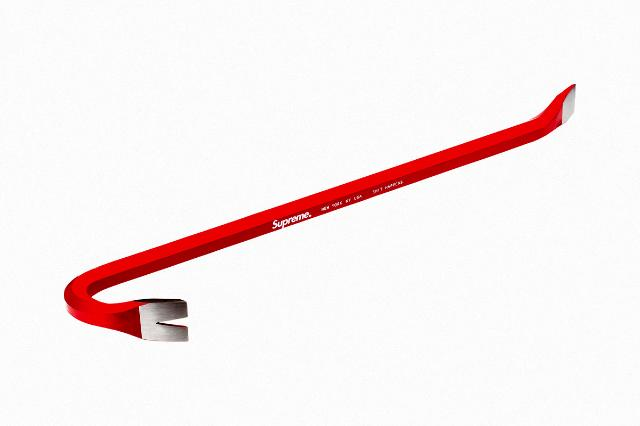crow bar: (57, 82, 585, 348)
